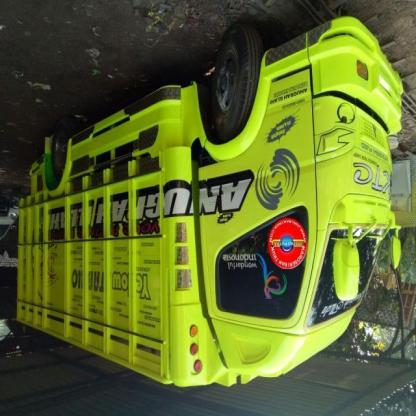truck: (19, 15, 407, 397)
